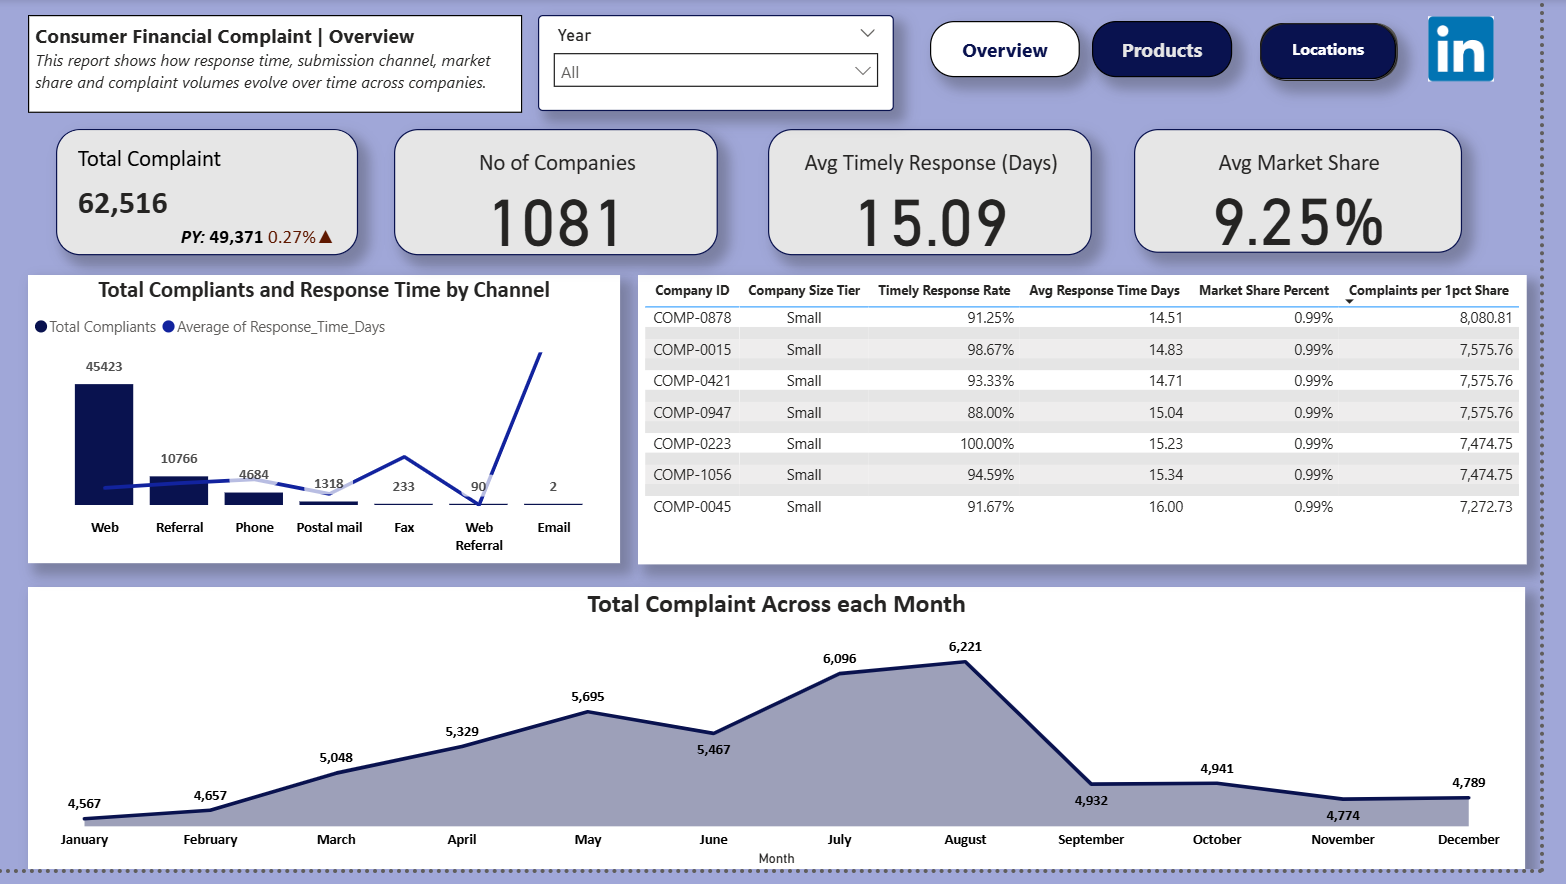

The dashboard page shown, as its layout file describes it:
{"tool":"powerbi","page":{"name":"Page 1","canvas":[1280,720],"ordinal":0},"visuals":[{"type":"textbox","box":[28.1,13.2,408.8,81.1],"z":0},{"type":"cardVisual","title":"Total Complaint","fields":{"Data":["Measure Table.Total Complaint"]},"box":[51.3,107.6,249.9,104.3],"z":1000},{"type":"card","title":"Avg Timely Response (Days)","fields":{"Values":["Avg(Complaints.Response_Time_Days)"]},"box":[640.6,107.6,268.1,104.3],"z":2000},{"type":"card","title":"Avg Market Share","fields":{"Values":["Avg(Company.Market_Share_Percent)"]},"box":[943.4,107.6,271.4,102.6],"z":3000},{"type":"areaChart","title":"Total Complaint Across each Month","fields":{"Y":["Measure Table.Total Complaint"],"Category":["Calendar_Date.SOM.Variation.Date Hierarchy.Month"]},"box":[28.8,486.8,1239.1,235.1],"z":4000},{"type":"lineClusteredColumnComboChart","title":"Total Compliants and Response Time by Channel","fields":{"Category":["Complaints.Submitted via"],"Y2":["Avg(Complaints.Response_Time_Days)"],"Y":["CountNonNull(Complaints.Complaint ID)"]},"box":[28.1,228.4,489.9,238.3],"z":5000},{"type":"tableEx","fields":{"Values":["Company.Company_ID_1081","Company.Company_Size_Tier","Company.Timely_Response_Rate","Company.Avg_Response_Time_Days","Company.Market_Share_Percent","Company.Complaints_per_1pct_Share"]},"box":[532.3,229,735.5,239.6],"z":6000},{"type":"slicer","fields":{"Values":["Calendar_Date.Date.Variation.Date Hierarchy.Year"]},"box":[450.2,13.2,294.6,79.4],"z":7000},{"type":"textbox","box":[774.6,18.2,124.1,46.3],"z":8000},{"type":"textbox","box":[908.7,18.2,115.9,46.3],"z":9000},{"type":"actionButton","box":[908.7,18.2,115.9,48],"z":10000},{"type":"actionButton","box":[1047.7,19.9,114.2,46.3],"z":11000},{"type":"textbox","box":[1047.7,19.9,112.6,46.3],"z":12000},{"type":"shape","box":[1047.7,19.9,114.2,48],"z":13000},{"type":"card","title":"No of Companies","fields":{"Values":["Count(Company.Company_ID_1081)"]},"box":[331,107.6,268.1,104.3],"z":14000},{"type":"image","box":[1181.8,8.3,64.6,66.2],"z":15000,"group":"g1"},{"type":"group","id":"g1","title":"Group 1","box":[1181.8,8.3,64.6,66.2],"z":15002}]}

Visuals, with their boxes in screenshot pixels (x1, y1, x2, y2), scaled from the page's 1280x720 canvas onto the 1566x884 screenshot:
textbox: select_region(34, 16, 535, 116)
"Total Complaint" cardVisual: select_region(63, 132, 368, 260)
"Avg Timely Response (Days)" card: select_region(784, 132, 1112, 260)
"Avg Market Share" card: select_region(1154, 132, 1486, 258)
"Total Complaint Across each Month" areaChart: select_region(35, 598, 1551, 883)
"Total Compliants and Response Time by Channel" lineClusteredColumnComboChart: select_region(34, 280, 634, 573)
tableEx - Company.Company_ID_1081 x Company.Company_Size_Tier: select_region(651, 281, 1551, 575)
slicer - Calendar_Date.Date.Variation.Date Hierarchy.Year: select_region(551, 16, 911, 114)
textbox: select_region(948, 22, 1100, 79)
textbox: select_region(1112, 22, 1254, 79)
actionButton: select_region(1112, 22, 1254, 81)
actionButton: select_region(1282, 24, 1422, 81)
textbox: select_region(1282, 24, 1420, 81)
shape: select_region(1282, 24, 1422, 83)
"No of Companies" card: select_region(405, 132, 733, 260)
image: select_region(1446, 10, 1525, 91)
"Group 1" group: select_region(1446, 10, 1525, 91)
